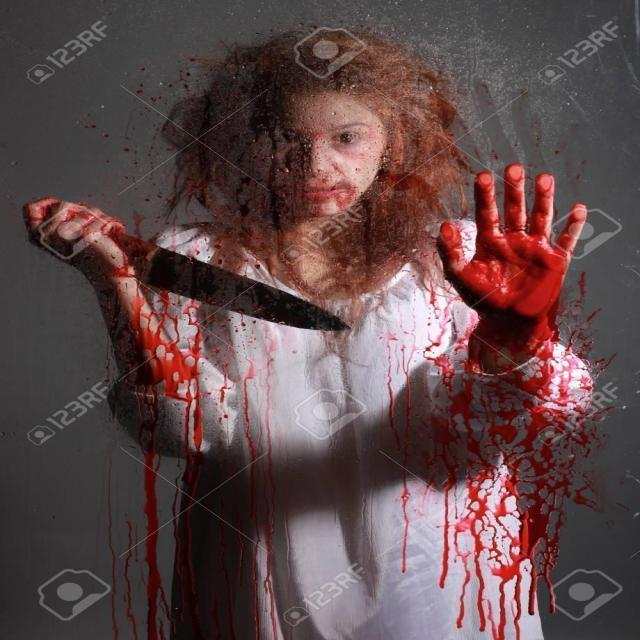flood: (45, 169, 273, 629), (417, 154, 605, 640)
